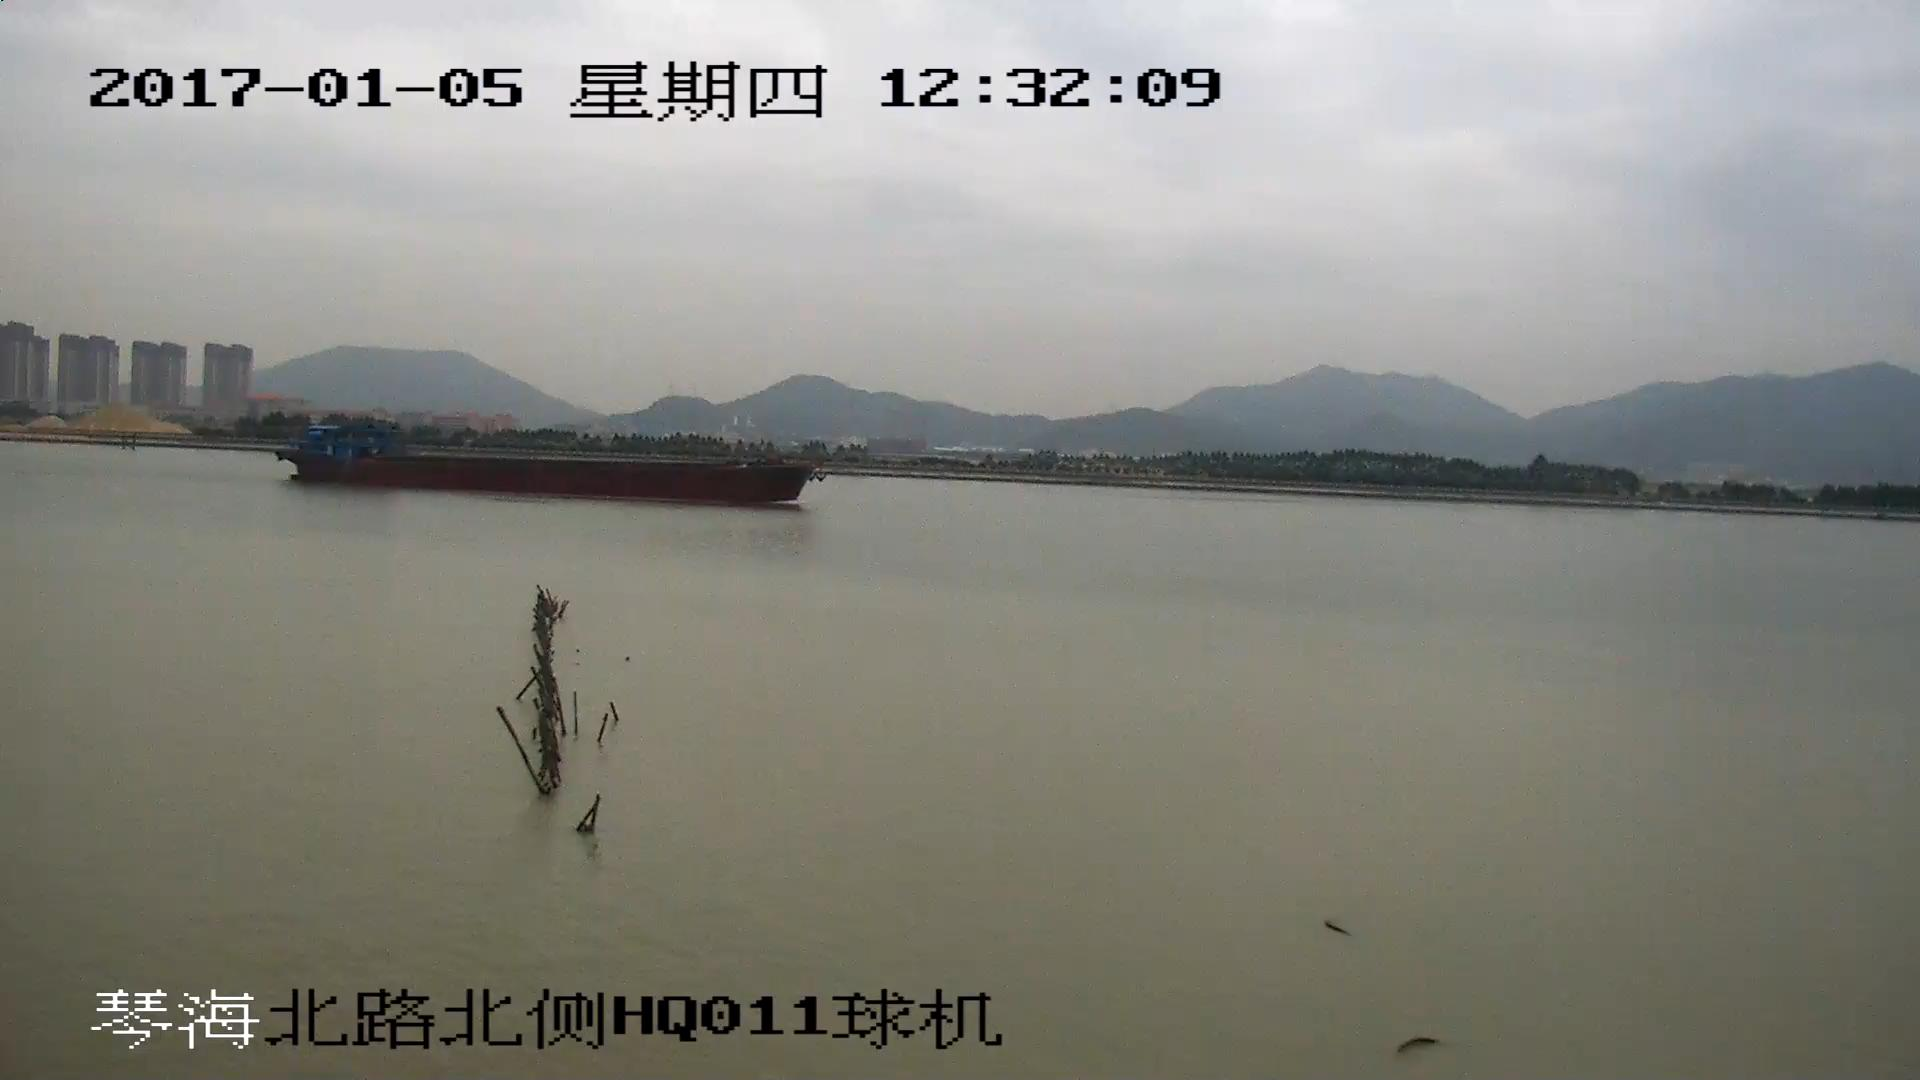bulk cargo carrier: (273, 424, 826, 504)
